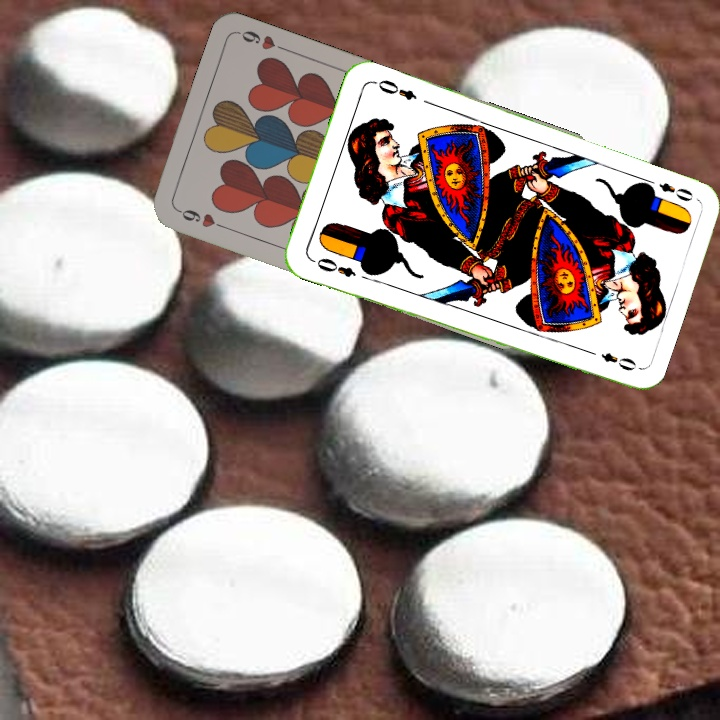EO: (641, 174, 696, 204), (307, 254, 359, 280)
H9: (173, 205, 230, 232)
